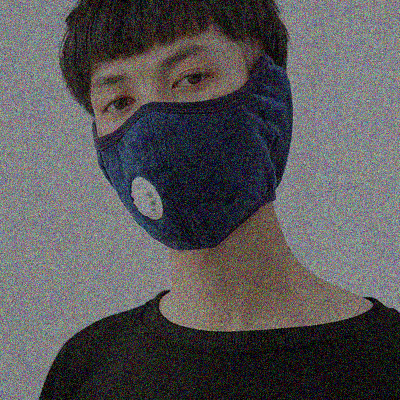with_mask: (91, 39, 257, 257)
